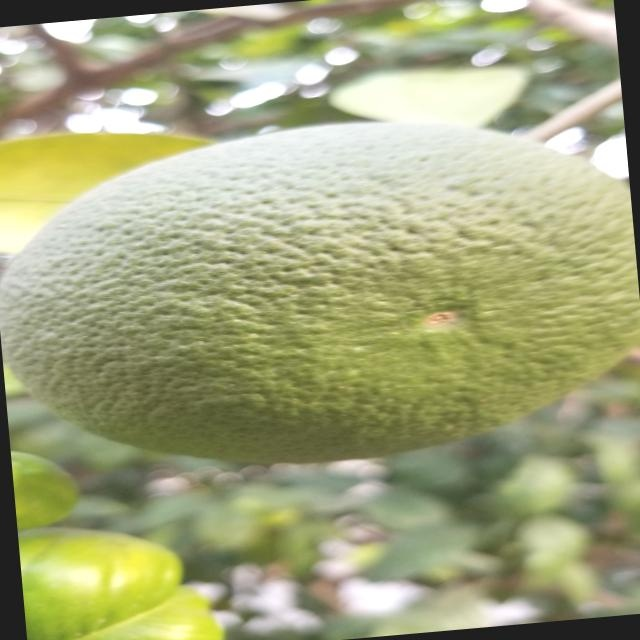agrume: (0, 97, 640, 489)
